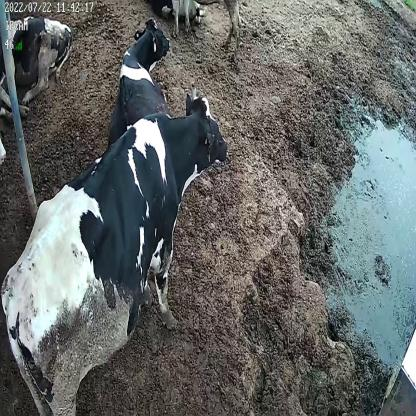cow: (1, 87, 230, 416), (116, 18, 172, 122)
